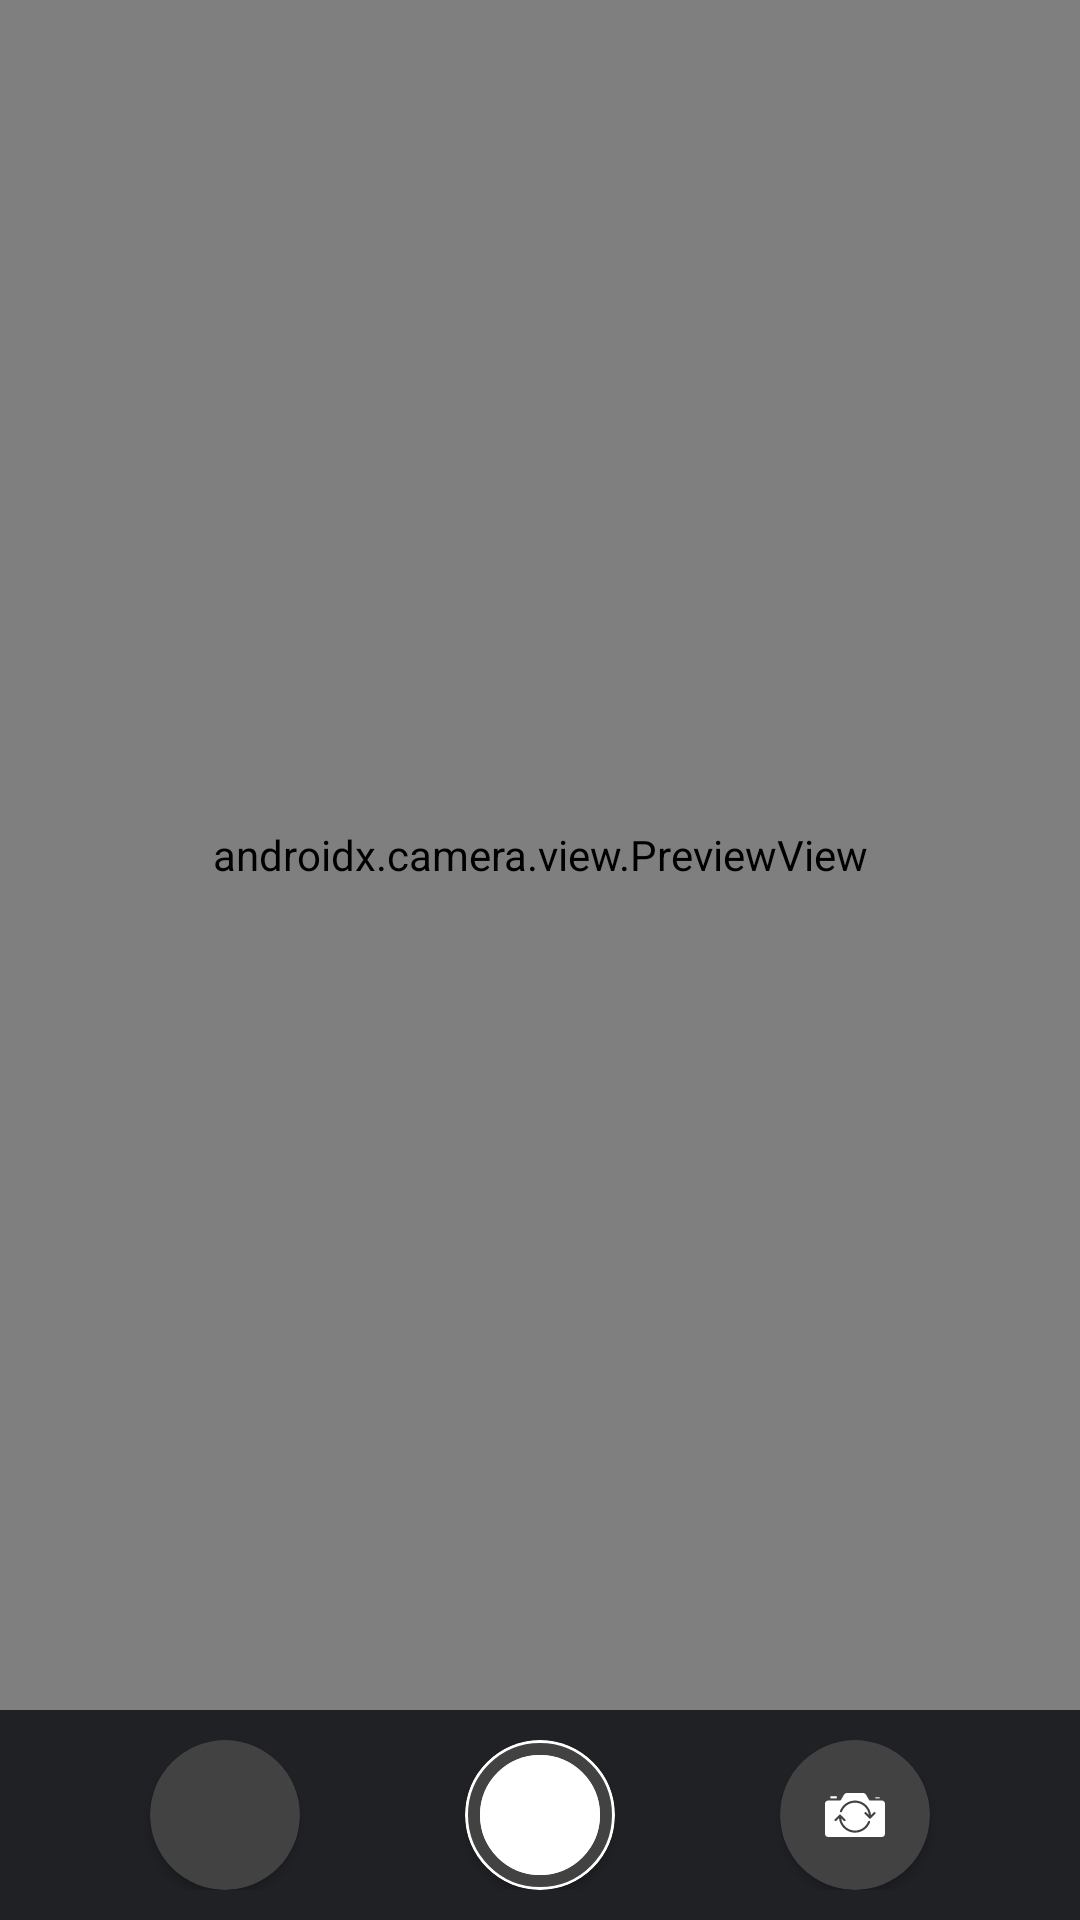

Where to tap for icons on this 1080 × 1920 app screen, as [x,y]:
capture: [540,1815]
switch camera: [855,1815]
